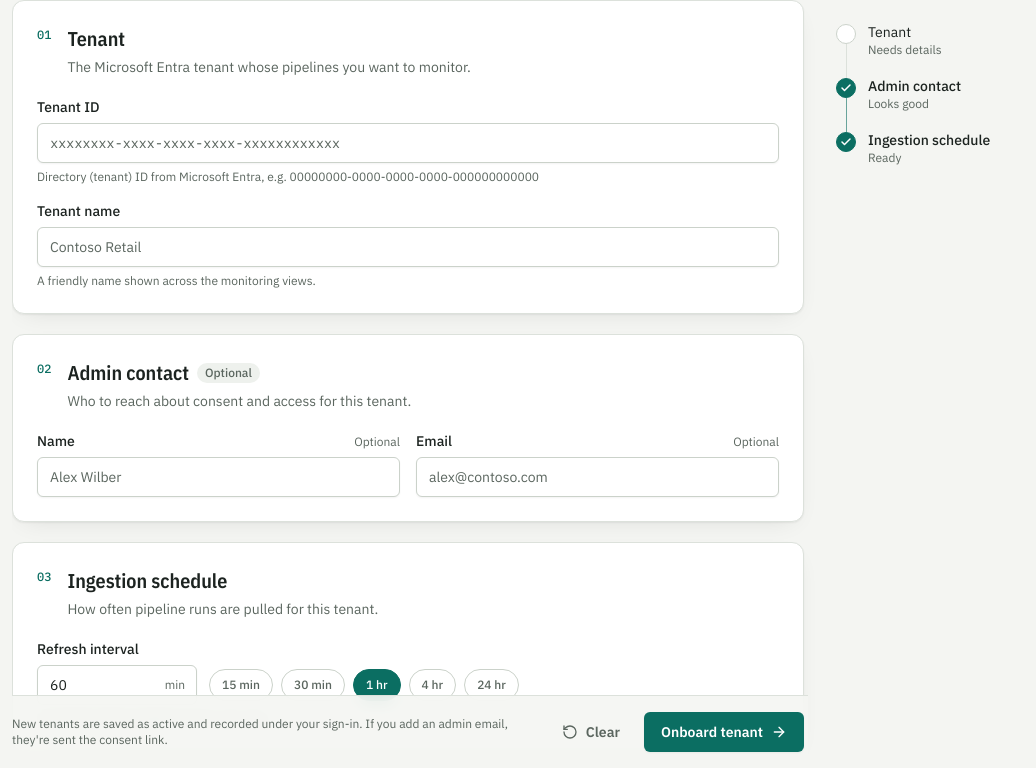
TenantOnboarding › shows validation errors instead of submitting an incomplete form
Step 1. Click the button "Onboard tenant" → (724, 732), box [644, 712, 804, 752]
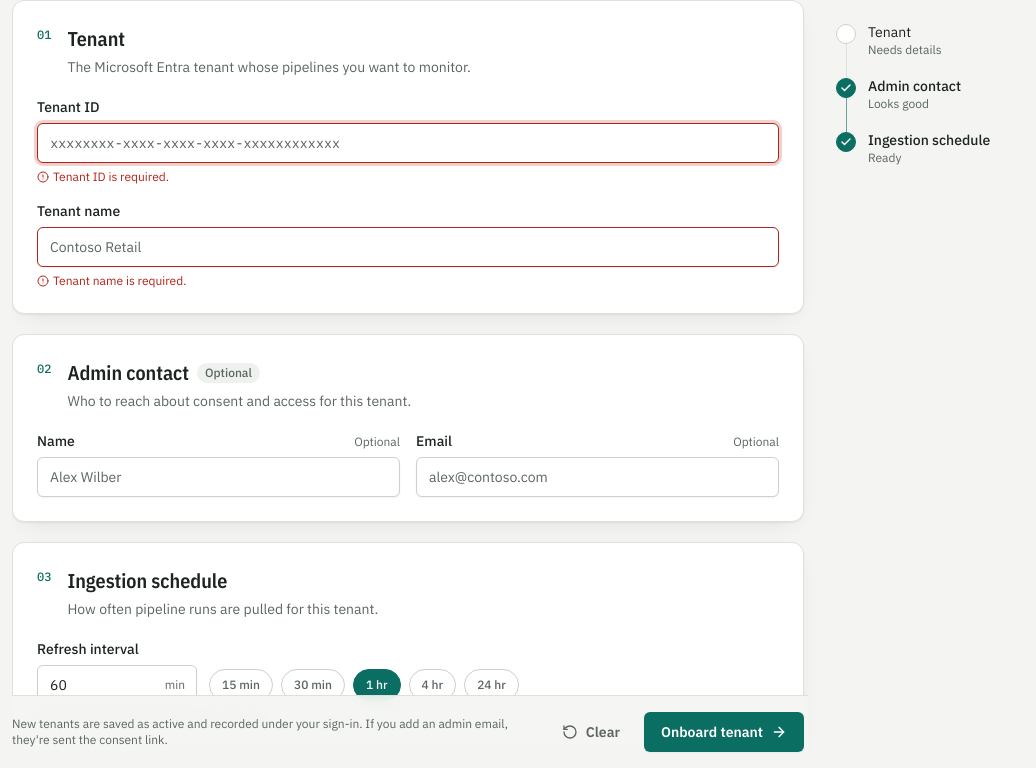
expect the text "Tenant ID is required." is shown: met, box [37, 169, 169, 184]
